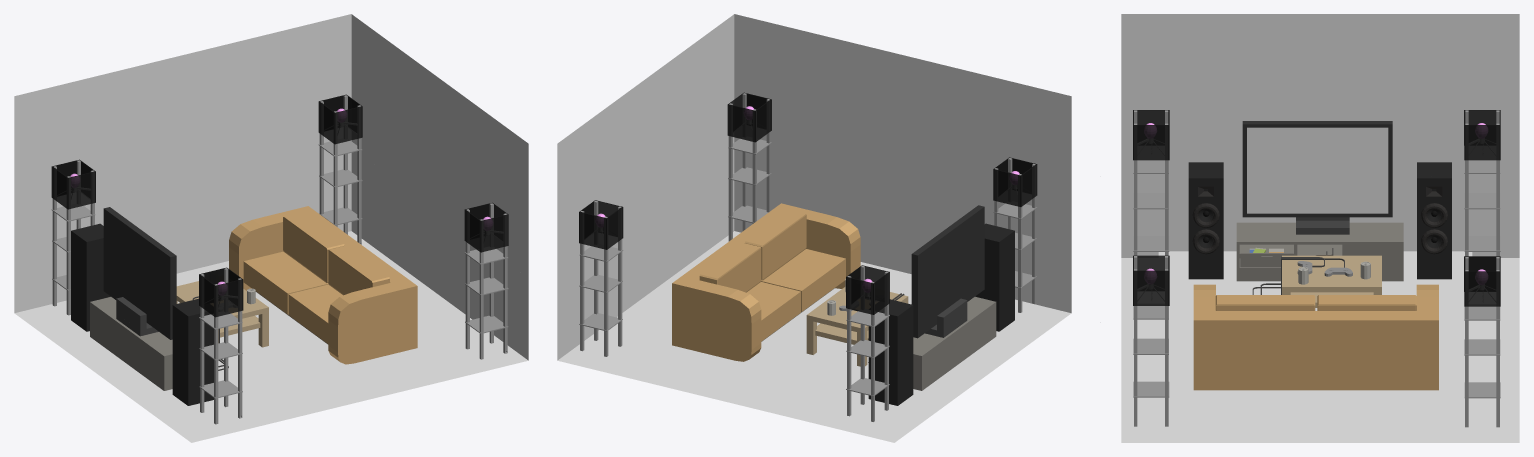
File: TV_Room.glb
The picture shows the model from 3 angles, left to right: view 1: azimuth 30°, elevation 25°; view 2: azimuth 150°, elevation 25°; view 3: azimuth 270°, elevation 25°; orthographic projection. The views are drawn at different scales.
Parts seen in each view (by area): view 1: Walls, Furniture, node_MeshObject-417075136-PolyPaper22.002, node_MeshObject-417075136-PolyPaper22, node_MeshObject-417075136-PolyPaper22.003, node_MeshObject-417075136-PolyPaper22.001, node_MeshObject-2002106560-PolyPaper22, node_MeshObject-2002106560-PolyPaper22.002, node_MeshObject-2002106560-PolyPaper22.003, node_MeshObject-2002106560-PolyPaper22.001; view 2: Walls, Furniture, node_MeshObject-417075136-PolyPaper22.003, node_MeshObject-417075136-PolyPaper22.001, node_MeshObject-417075136-PolyPaper22.002, node_MeshObject-417075136-PolyPaper22, node_MeshObject-2002106560-PolyPaper22.003, node_MeshObject-2002106560-PolyPaper22.001, node_MeshObject-2002106560-PolyPaper22.002, node_MeshObject-2002106560-PolyPaper22; view 3: Walls, Furniture, TV_Screen, node_MeshObject-417075136-PolyPaper22.003, node_MeshObject-417075136-PolyPaper22.002, node_MeshObject-417075136-PolyPaper22.001, node_MeshObject-417075136-PolyPaper22, node_MeshObject-2002106560-PolyPaper22.002, node_MeshObject-2002106560-PolyPaper22.003, node_MeshObject-2002106560-PolyPaper22, node_MeshObject-2002106560-PolyPaper22.001.
Boxes of the visible parts, left/top/right/bottom form: Walls: left=14, top=14, right=528, bottom=442; Furniture: left=40, top=206, right=459, bottom=420; node_MeshObject-417075136-PolyPaper22.002: left=464, top=202, right=508, bottom=359; node_MeshObject-417075136-PolyPaper22: left=199, top=267, right=243, bottom=424; node_MeshObject-417075136-PolyPaper22.003: left=318, top=94, right=362, bottom=234; node_MeshObject-417075136-PolyPaper22.001: left=51, top=159, right=95, bottom=315; node_MeshObject-2002106560-PolyPaper22: left=199, top=274, right=242, bottom=418; node_MeshObject-2002106560-PolyPaper22.002: left=465, top=209, right=508, bottom=353; node_MeshObject-2002106560-PolyPaper22.003: left=319, top=101, right=362, bottom=244; node_MeshObject-2002106560-PolyPaper22.001: left=52, top=166, right=94, bottom=306; Walls: left=557, top=14, right=1071, bottom=442; Furniture: left=630, top=203, right=1049, bottom=417; node_MeshObject-417075136-PolyPaper22.003: left=579, top=200, right=623, bottom=351; node_MeshObject-417075136-PolyPaper22.001: left=846, top=265, right=889, bottom=416; node_MeshObject-417075136-PolyPaper22.002: left=727, top=92, right=771, bottom=241; node_MeshObject-417075136-PolyPaper22: left=993, top=157, right=1037, bottom=303; node_MeshObject-2002106560-PolyPaper22.003: left=579, top=200, right=622, bottom=356; node_MeshObject-2002106560-PolyPaper22.001: left=846, top=266, right=889, bottom=421; node_MeshObject-2002106560-PolyPaper22.002: left=728, top=93, right=768, bottom=230; node_MeshObject-2002106560-PolyPaper22: left=1008, top=158, right=1036, bottom=312; Walls: left=1121, top=14, right=1519, bottom=442; Furniture: left=1158, top=121, right=1472, bottom=405; TV_Screen: left=1247, top=127, right=1388, bottom=213; node_MeshObject-417075136-PolyPaper22.003: left=1464, top=256, right=1500, bottom=427; node_MeshObject-417075136-PolyPaper22.002: left=1133, top=255, right=1169, bottom=426; node_MeshObject-417075136-PolyPaper22.001: left=1464, top=110, right=1500, bottom=256; node_MeshObject-417075136-PolyPaper22: left=1133, top=110, right=1169, bottom=255; node_MeshObject-2002106560-PolyPaper22.002: left=1133, top=256, right=1169, bottom=426; node_MeshObject-2002106560-PolyPaper22.003: left=1464, top=257, right=1500, bottom=427; node_MeshObject-2002106560-PolyPaper22: left=1133, top=110, right=1169, bottom=255; node_MeshObject-2002106560-PolyPaper22.001: left=1464, top=110, right=1500, bottom=256.
Bounding box in the file's own units: 6.37 × 3.92 × 6.1.
